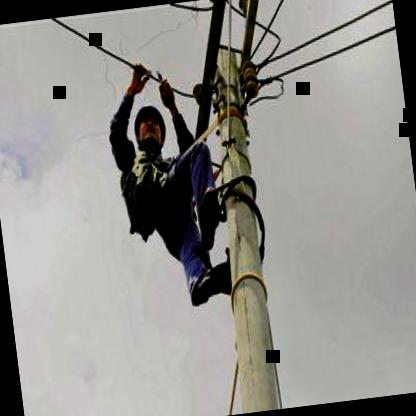helmet: (128, 97, 170, 163)
